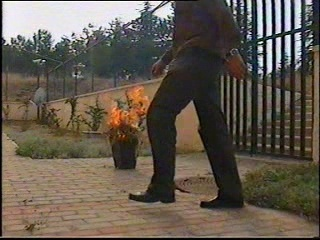fire: (100, 78, 151, 128)
